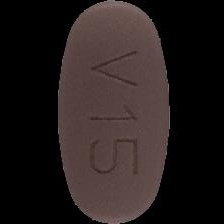0378-5815: (0, 0, 224, 224)
